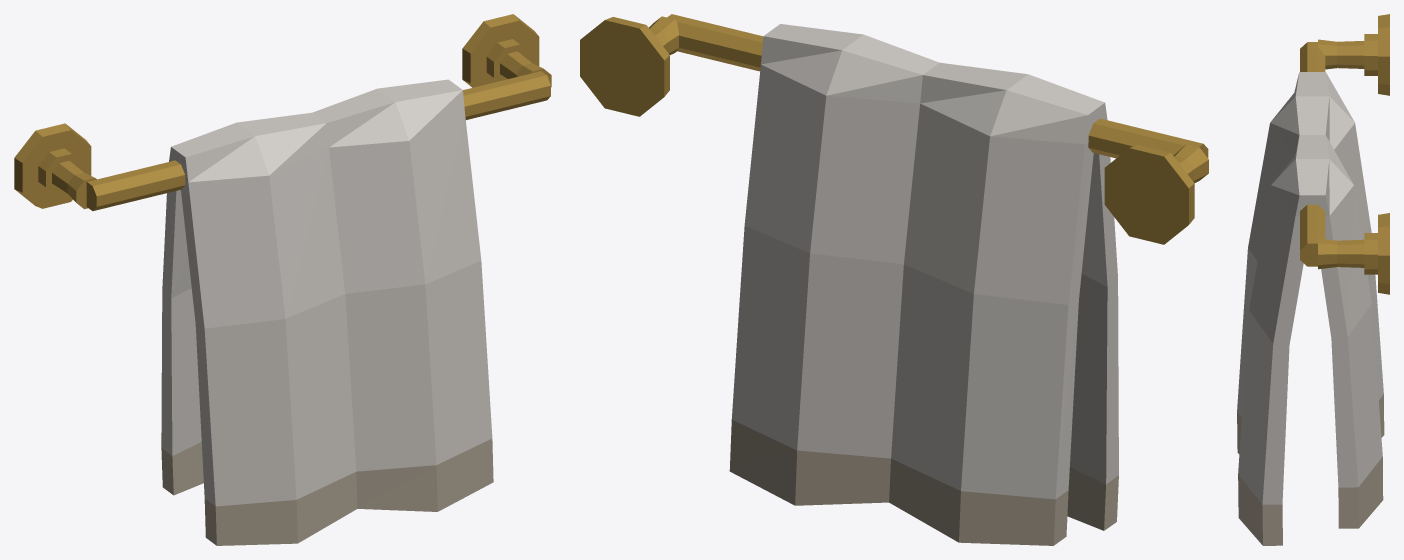
File: towel-rail-81254f.glb
The picture shows the model from 3 angles, left to right: view 1: azimuth 30°, elevation 25°; view 2: azimuth 150°, elevation 25°; view 3: azimuth 270°, elevation 25°; orthographic projection. The views are drawn at different scales.
Parts seen in each view (by area): view 1: towel-mesh, towel-rail-mesh; view 2: towel-mesh, towel-rail-mesh; view 3: towel-mesh, towel-rail-mesh.
Part boxes in pixels (bbox=[...]): towel-mesh: bbox=[161, 79, 493, 545]; towel-rail-mesh: bbox=[14, 14, 551, 210]; towel-mesh: bbox=[729, 24, 1118, 545]; towel-rail-mesh: bbox=[580, 14, 1208, 244]; towel-mesh: bbox=[1237, 72, 1384, 545]; towel-rail-mesh: bbox=[1300, 14, 1389, 294].
Bounding box in the file's own units: 0.6 × 0.439 × 0.168.
